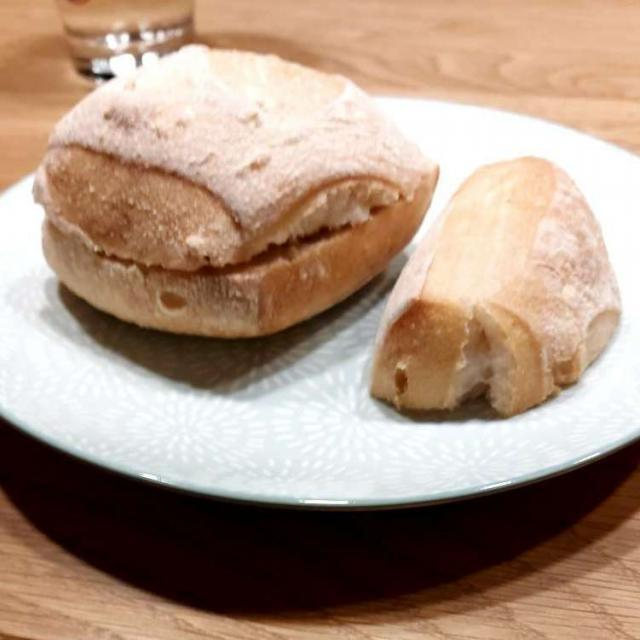bread: (38, 48, 623, 419)
